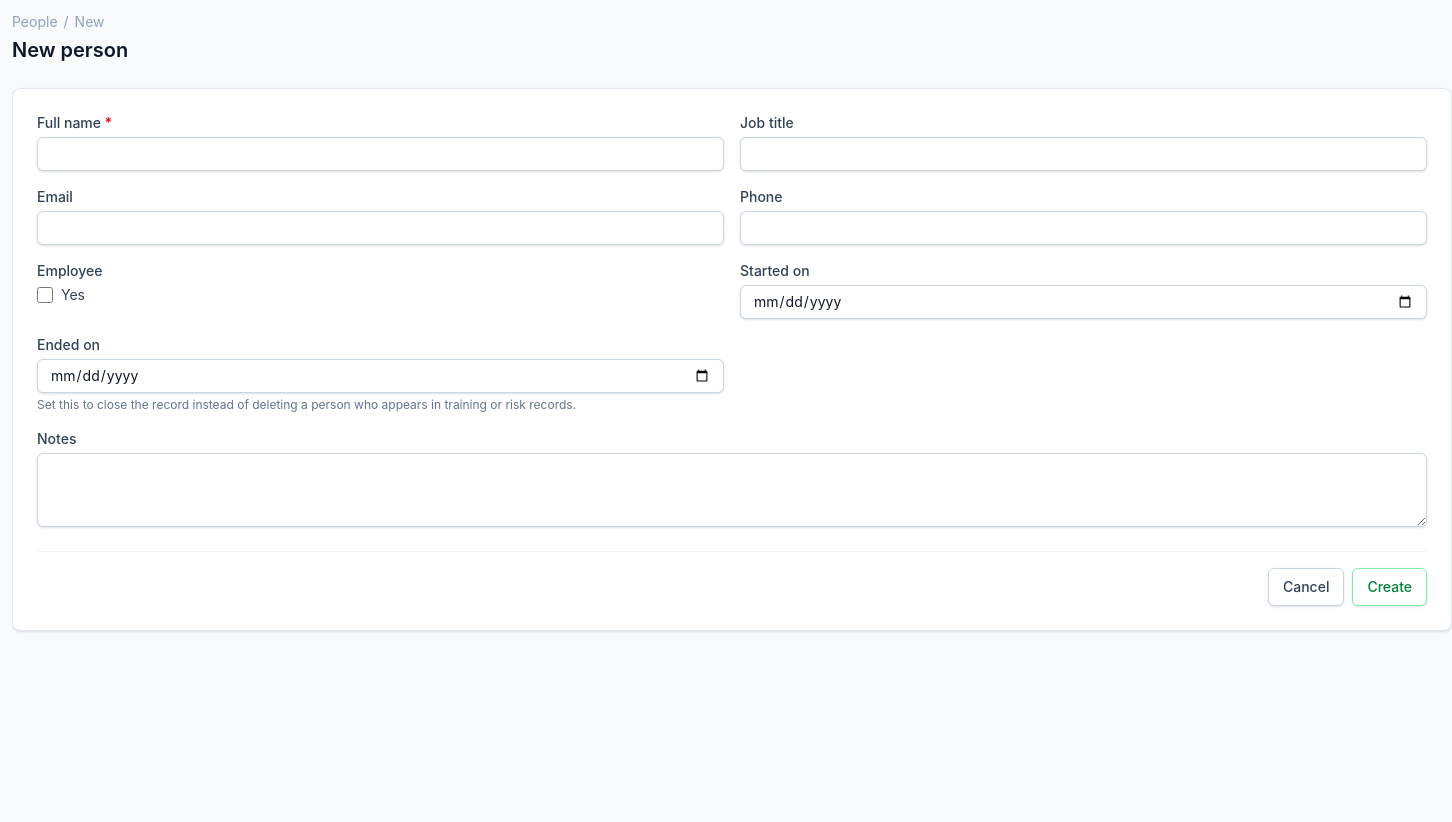
Test case: ResourceFormPage › shows the server's rejection and stays on the page when saving fails
Type "Jordan Reid" into the field labelled "Full name *" at [380, 154], box [37,137,724,171]
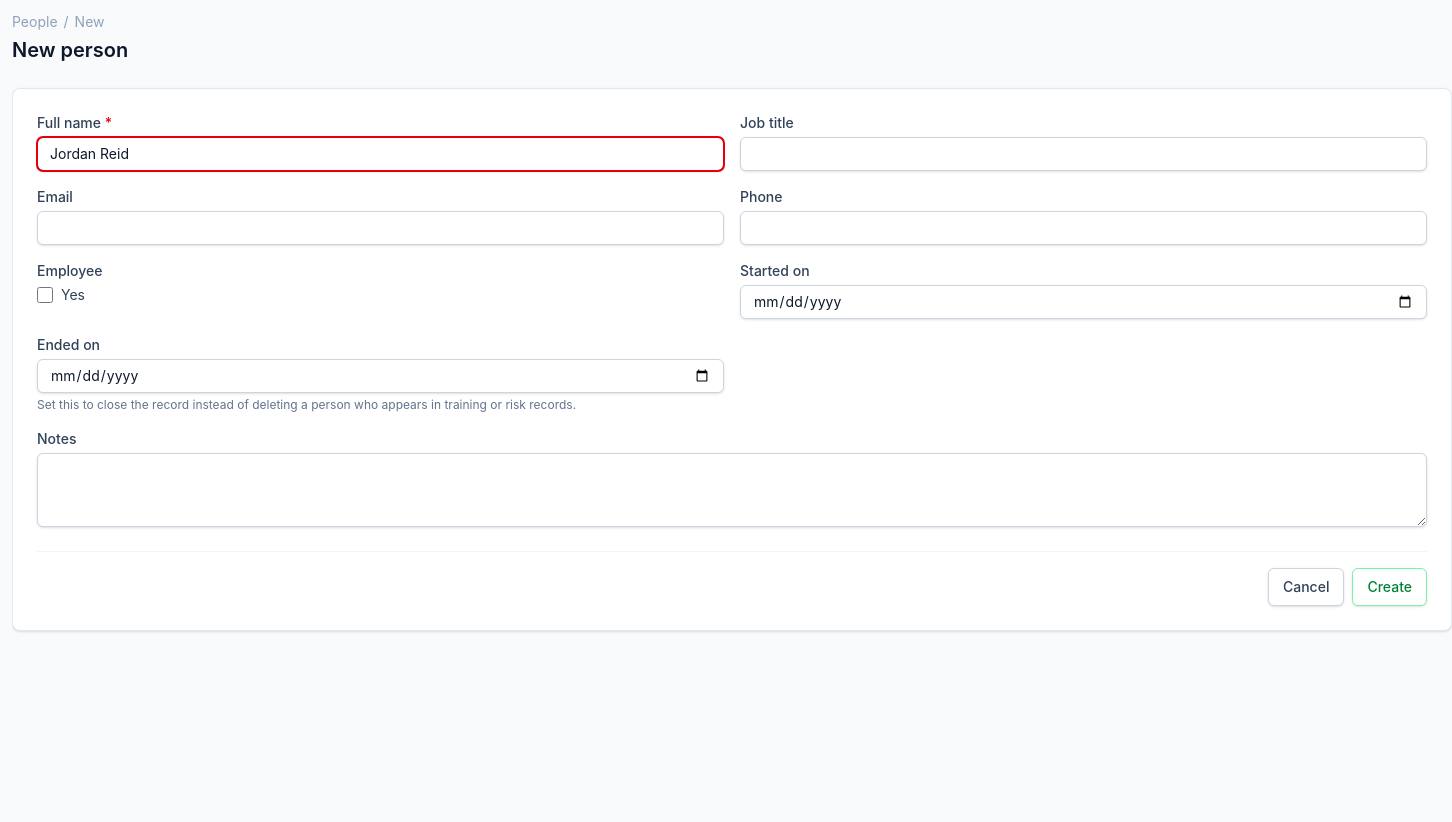
Click the button "Create" at [1390, 587], box [1352,568,1427,606]
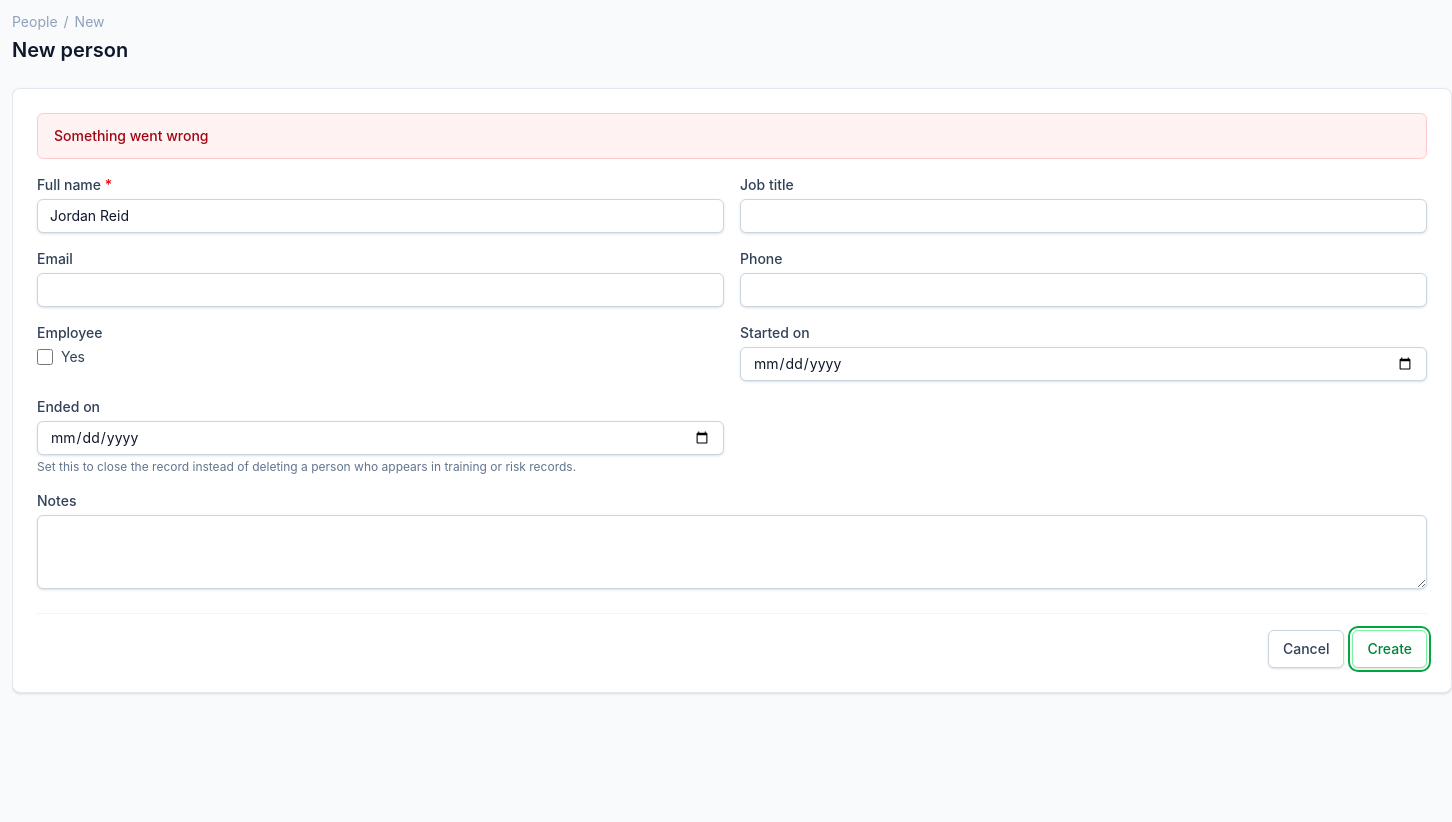
Now the text "Something went wrong" is shown, box [54,127,208,144]
